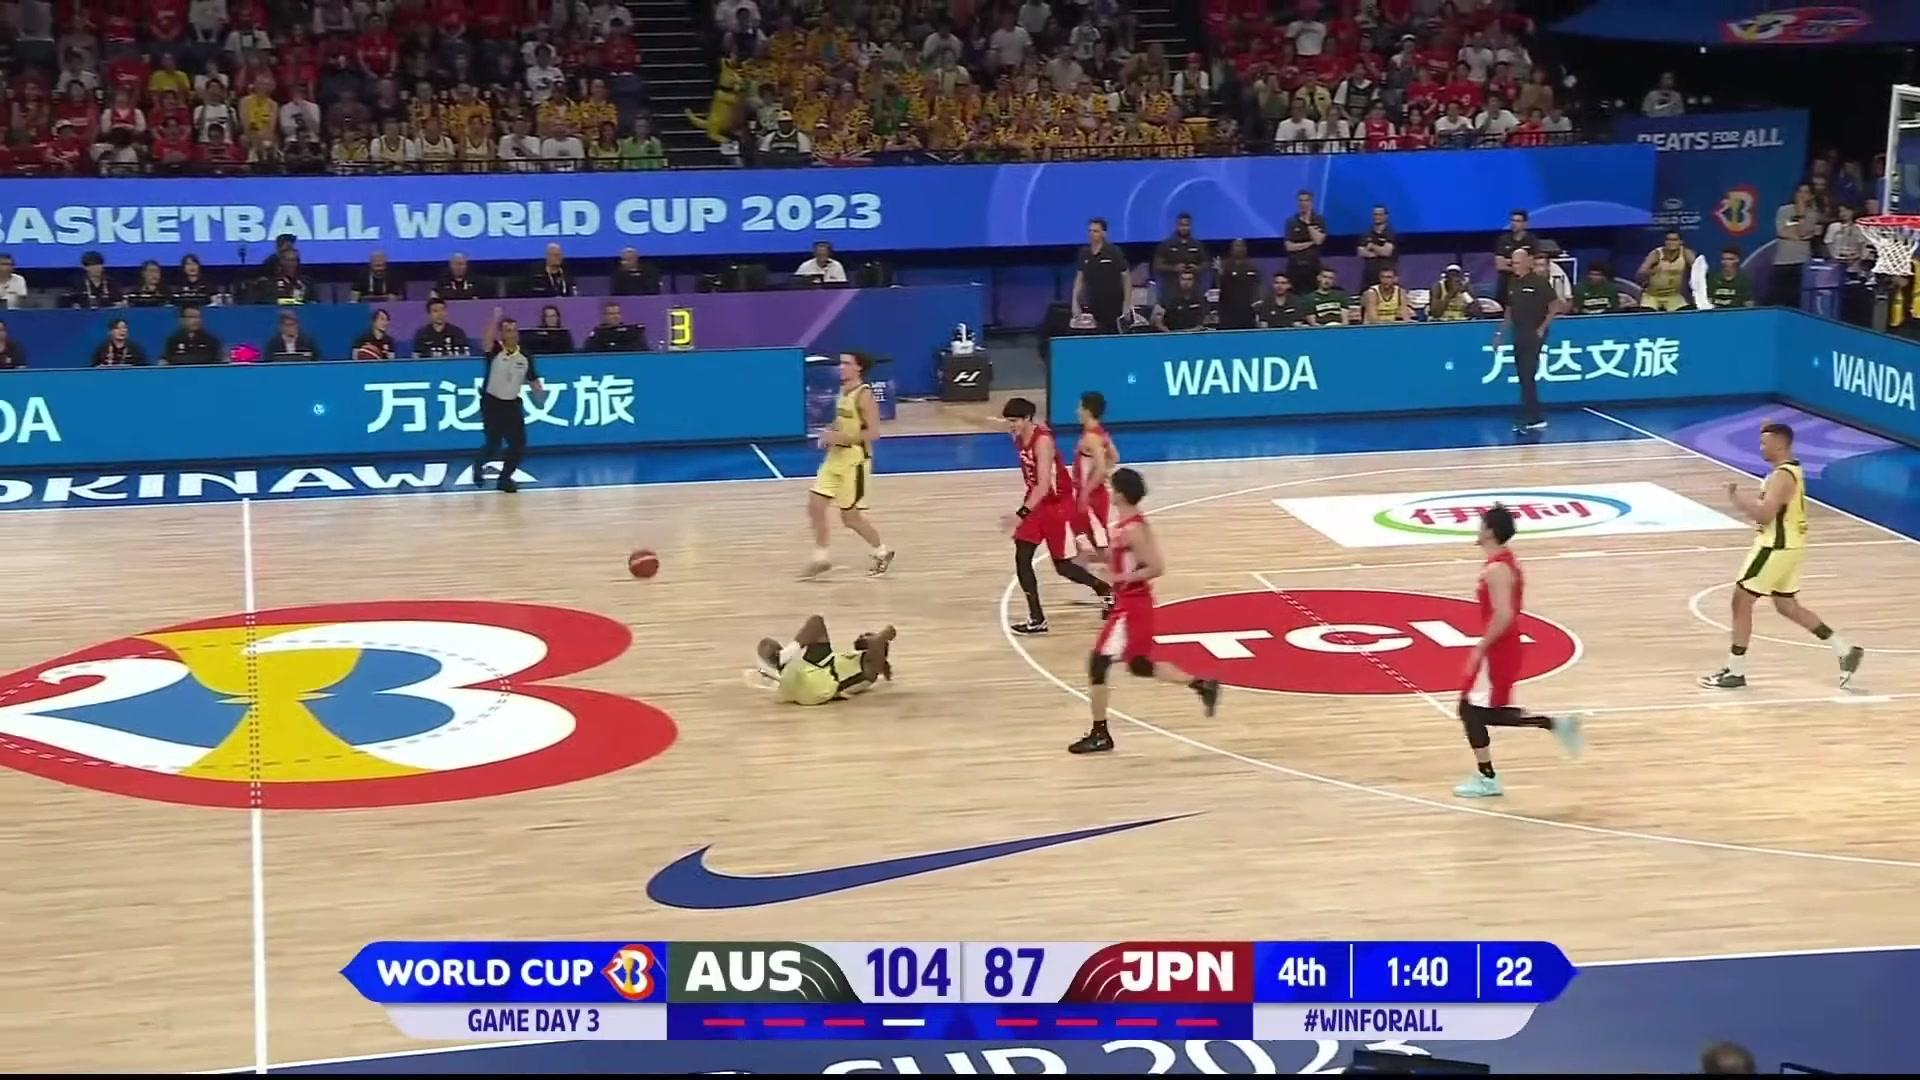foul: (717, 546, 1087, 727)
